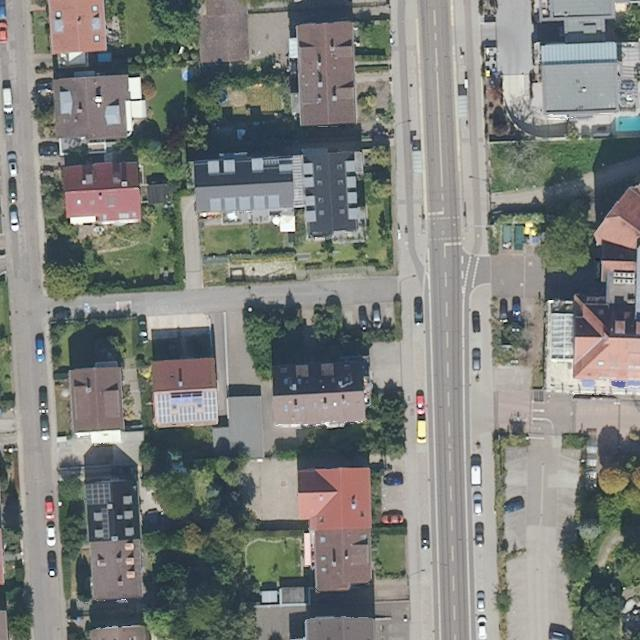PV: (156, 391, 217, 424)
